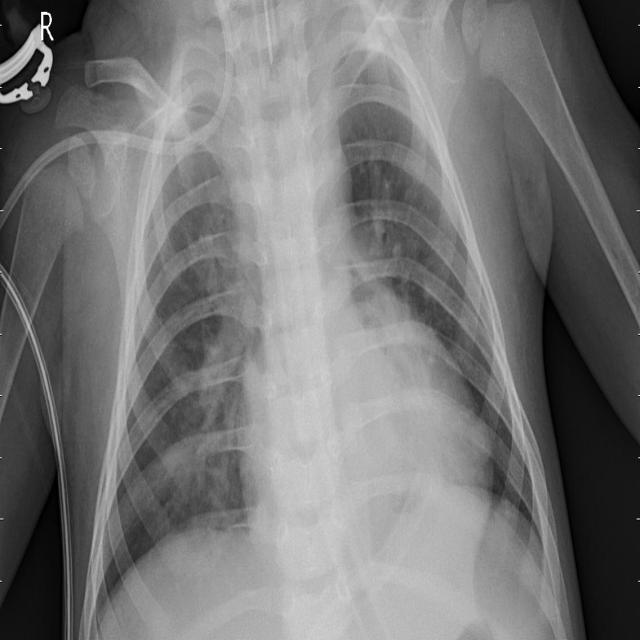high-pneumonia: (153, 29, 263, 317)
low-pneumonia: (164, 317, 251, 526), (331, 4, 414, 157), (348, 212, 397, 356)
